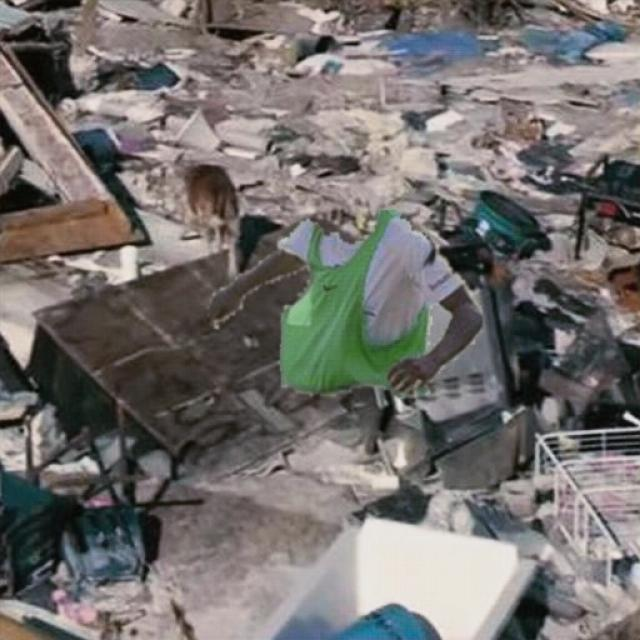Person in Rubble: (208, 210, 482, 399)
